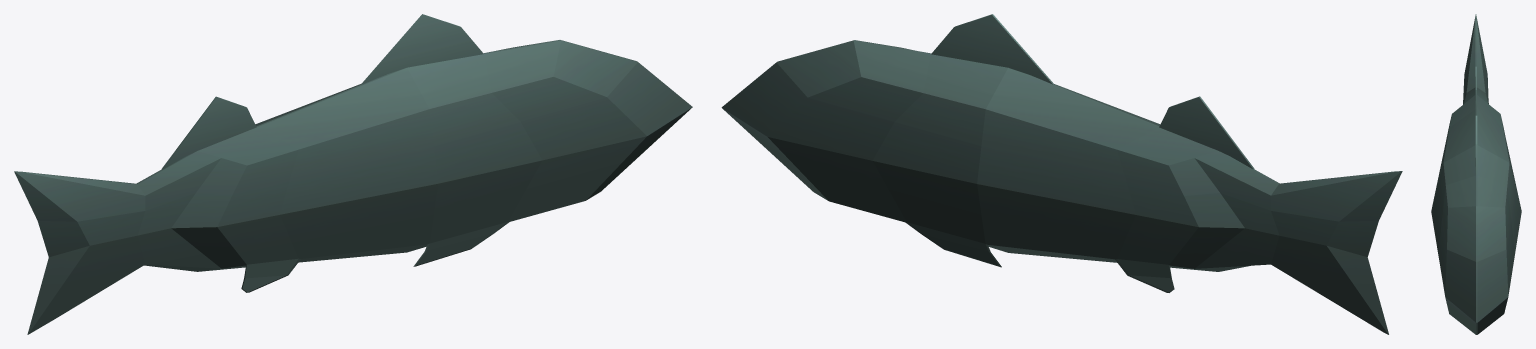
The model's file is FBX_FishDL.fbx.
3 views of the same model, side by side, from view 1: azimuth 30°, elevation 25°; view 2: azimuth 150°, elevation 25°; view 3: azimuth 270°, elevation 25° (orthographic). The views are drawn at different scales.
Parts seen in each view (by area): view 1: M_FishDL; view 2: M_FishDL; view 3: M_FishDL.
Part boxes in pixels (x1,y1,x2,y2): M_FishDL: (14,14,692,334); M_FishDL: (721,14,1402,334); M_FishDL: (1431,14,1521,334).
Bounding box in the file's own units: 0.6412 × 0.211 × 0.1038.
